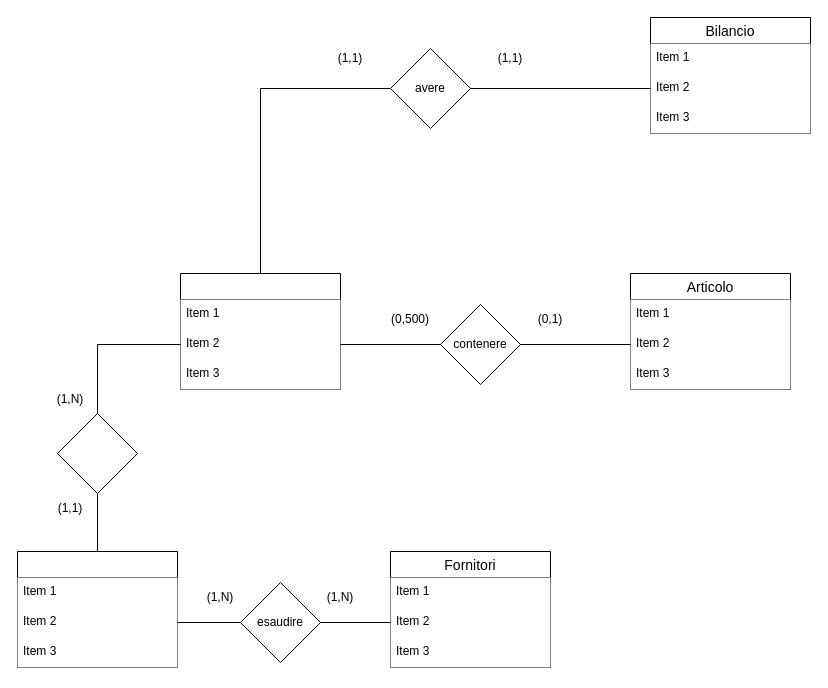
This 828x688 diagram has some shape labels left out. The shapes that lost their labels are listed below. From the top down, each one's box as (x1, y1, x2, y2) in pixels, then its label:
(180, 272, 340, 390): Magazzino
(56, 412, 138, 494): effettuare
(16, 550, 178, 668): Ordini
